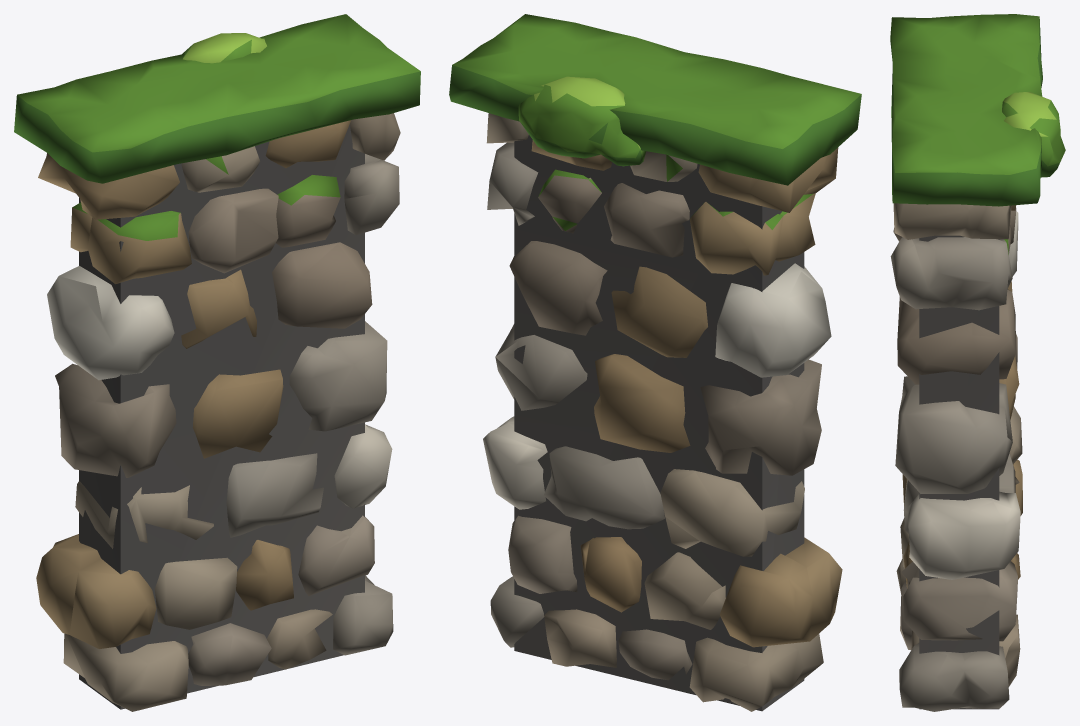
Rendered from glade_retaining_seg.glb.
3 renders of one model, left to right at view 1: azimuth 30°, elevation 25°; view 2: azimuth 150°, elevation 25°; view 3: azimuth 270°, elevation 25°, orthographic. The views are drawn at different scales.
Visible parts, largest first — view 1: glade_retaining_seg; view 2: glade_retaining_seg; view 3: glade_retaining_seg.
Part boxes in pixels (x1=…): glade_retaining_seg: x1=14, y1=14, x2=420, y2=711; glade_retaining_seg: x1=449, y1=14, x2=861, y2=711; glade_retaining_seg: x1=890, y1=14, x2=1065, y2=711.
Bounding box in the file's own units: 5.21 × 8.78 × 2.45.
